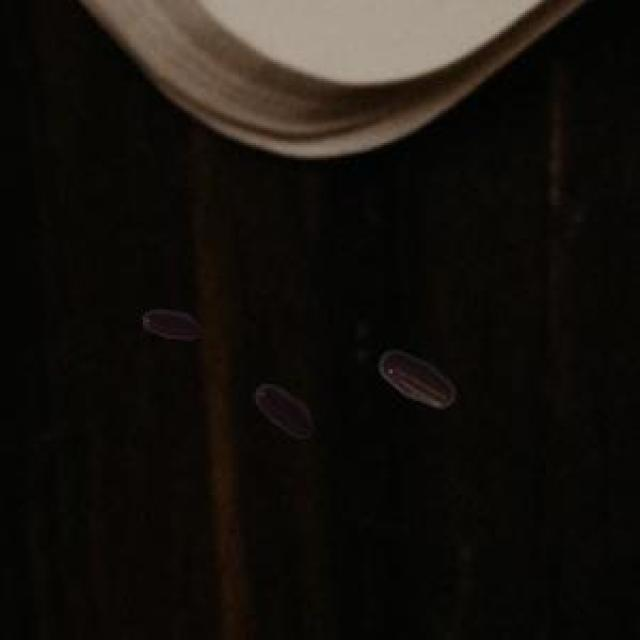DayZinc: (360, 334, 462, 423), (133, 290, 213, 359), (245, 380, 324, 448)
